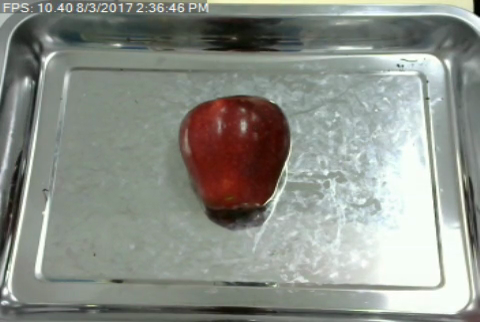Apple: (170, 88, 297, 216)
